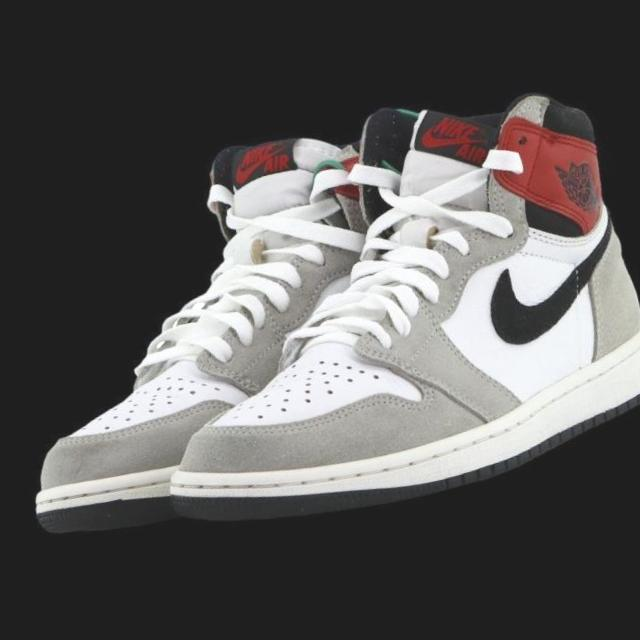nike_original_jordan: (100, 63, 640, 549), (0, 112, 429, 542)
